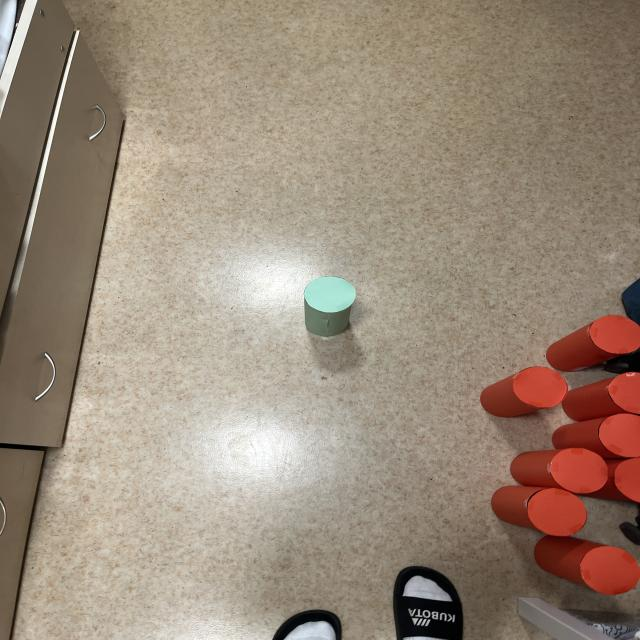meta: (304, 277, 355, 337)
